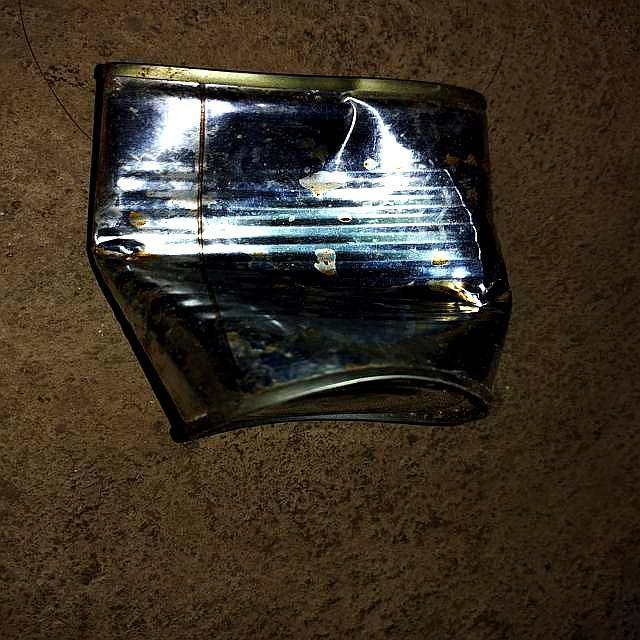Non-biodegradable: (86, 60, 515, 444)
